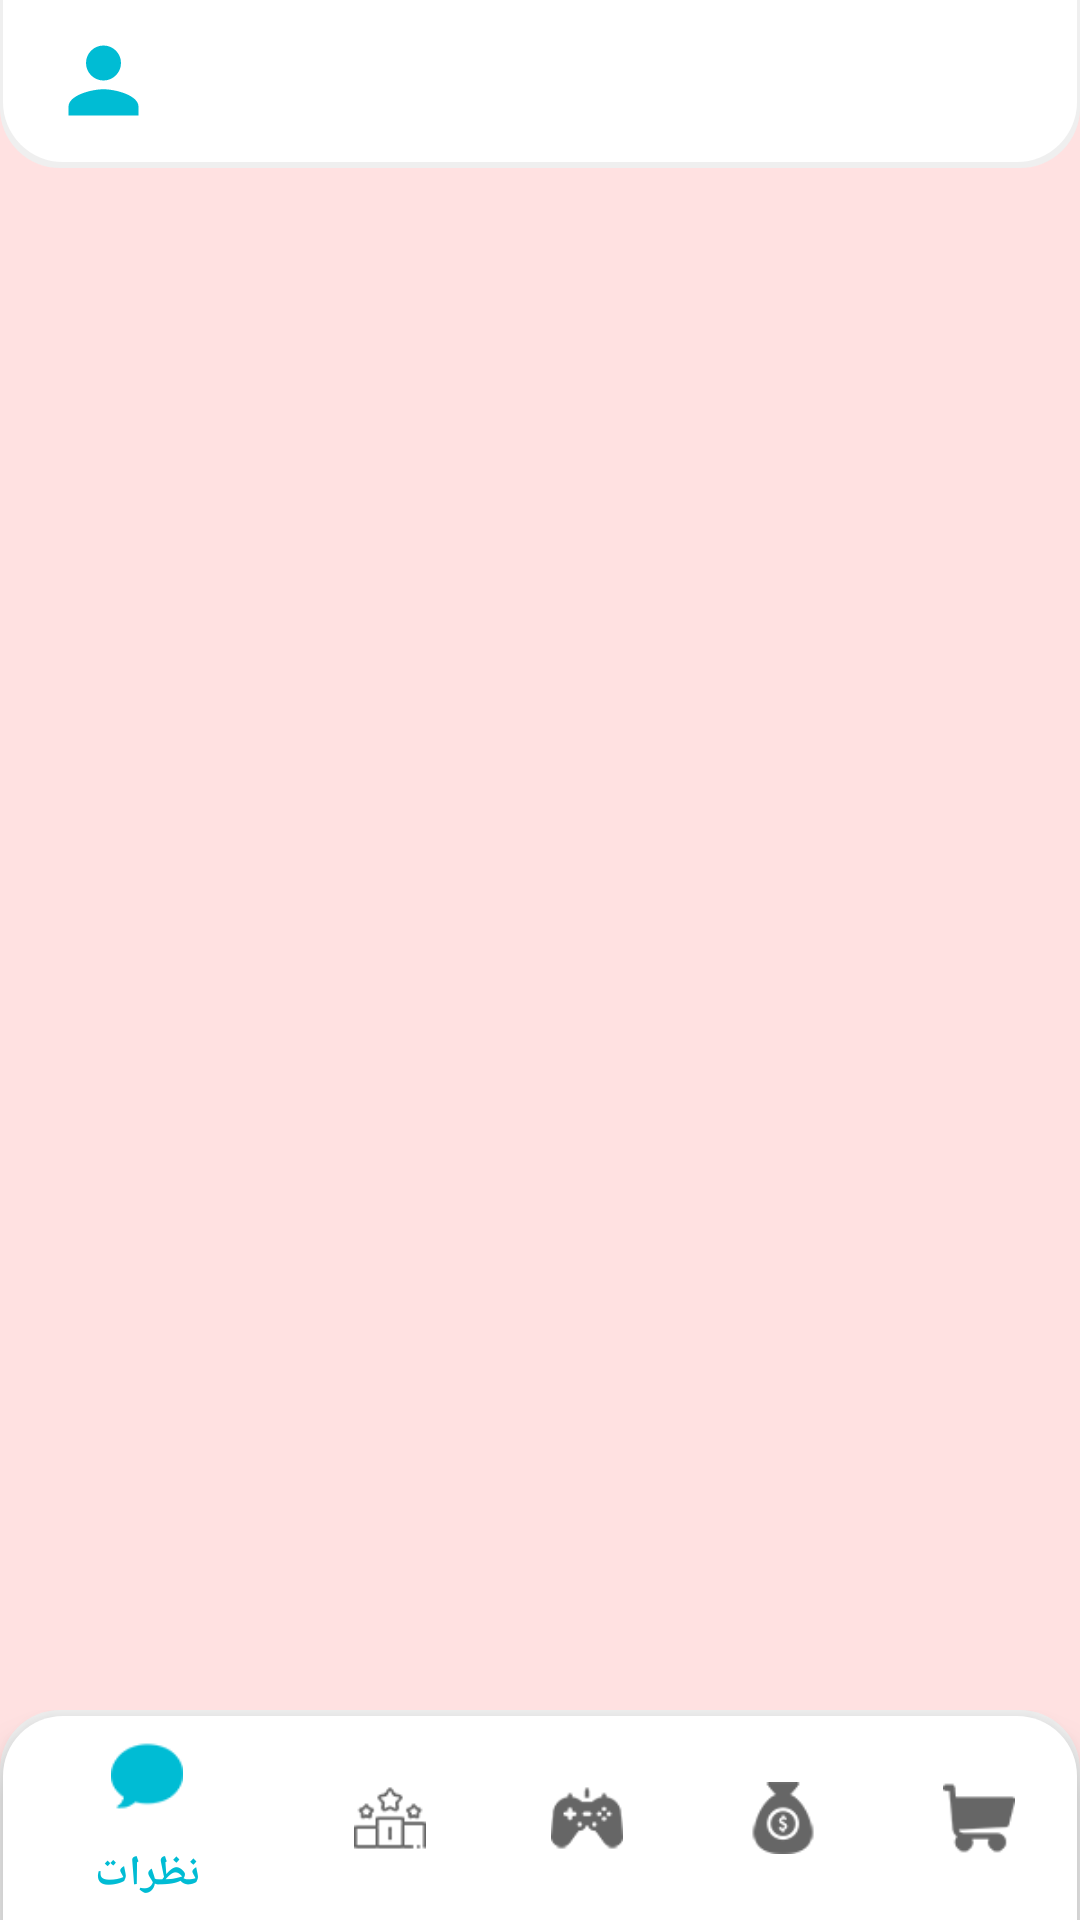

Where to tap for icons on this 1080x1920 app screen, as (x=x, y=y):
person: (x=103, y=80)
